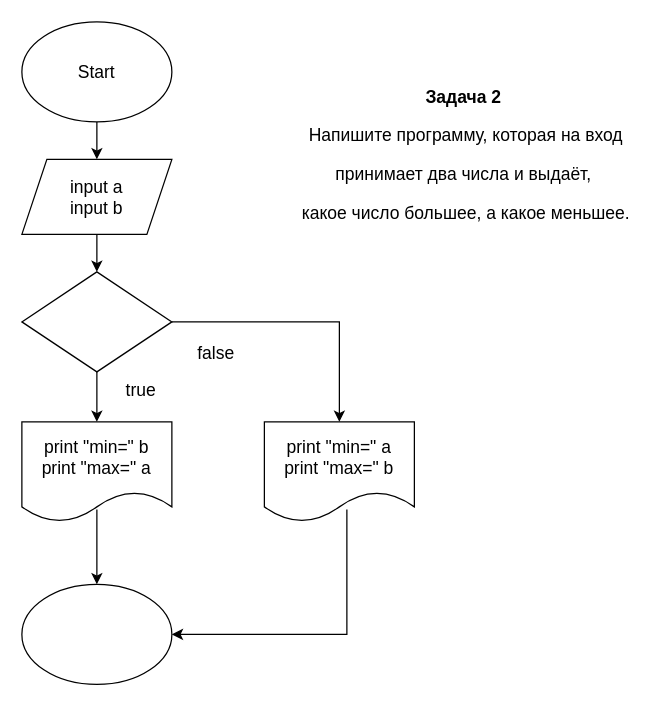
Image size: 669x706. Some labels were removed from this diagram. Here are the shapes that lost their labels. From the top down, the centre of each, then its label:
point 96,321: a>b
point 96,633: End
